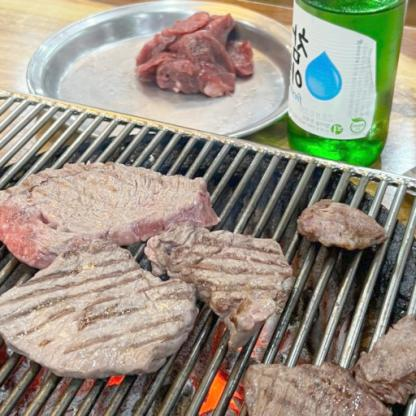Carne: (0, 260, 188, 380), (144, 225, 296, 347), (239, 361, 400, 415), (362, 314, 415, 401), (289, 203, 386, 249)
